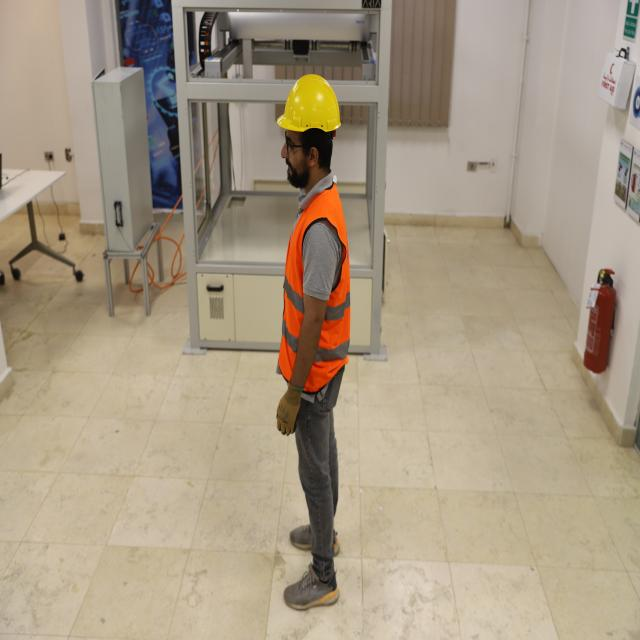glove: (275, 375, 306, 437)
helmet: (274, 72, 347, 143)
pants: (295, 375, 341, 558)
vest: (281, 191, 350, 378)
